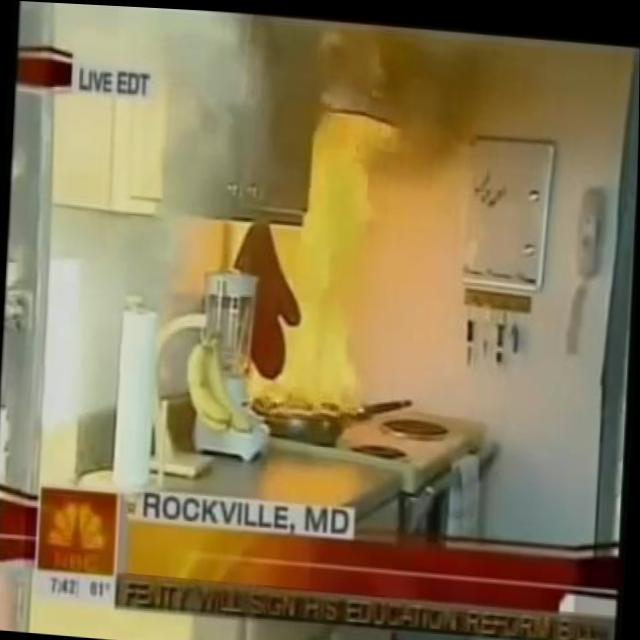fire: (229, 95, 387, 419)
